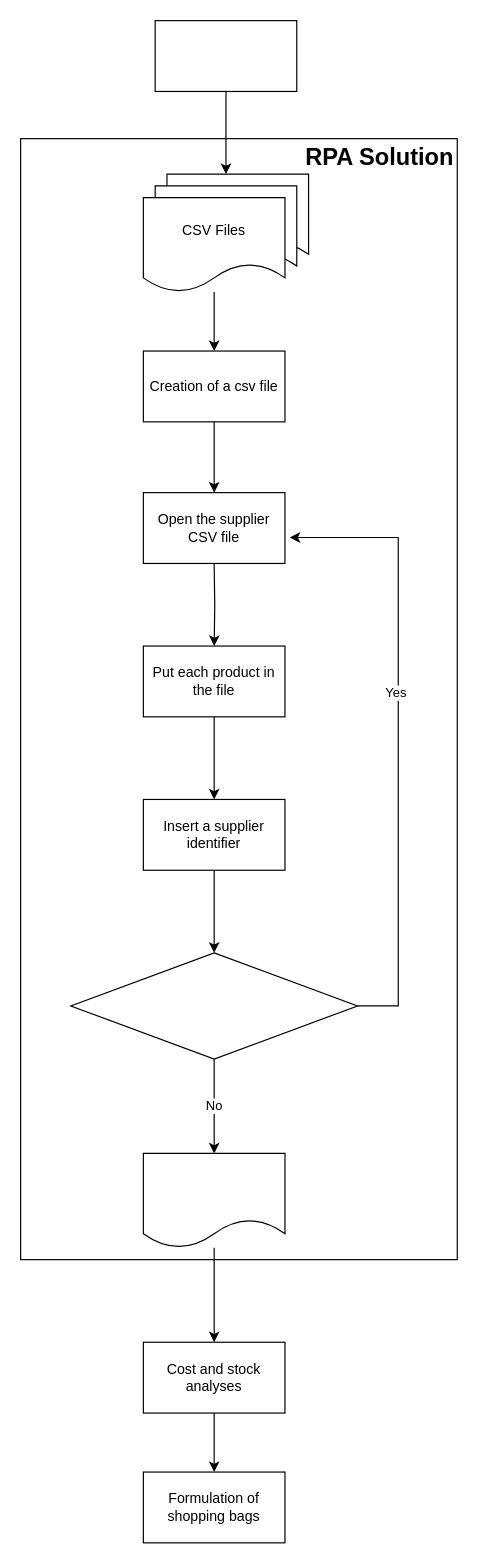
Image size: 483x1563. Some labels were removed from this diagram. Here are the shapes that lost their labels. From the top down, the centre of each, then its label:
At point 225,55: "Product Count".
At point 214,1005: "Are there any remaining csv files?".
At point 213,1200: "CSV Final File".
